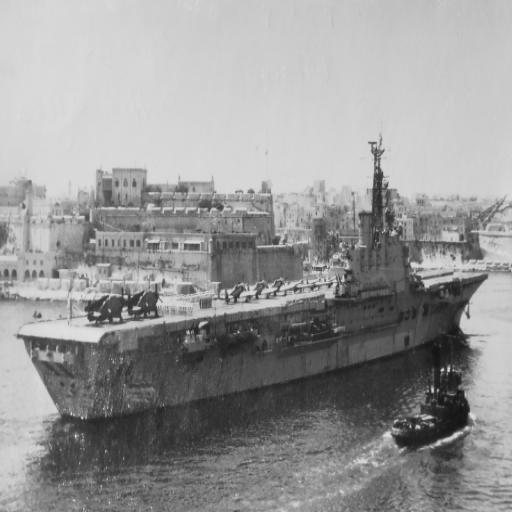Portanaves: (13, 133, 499, 433)
